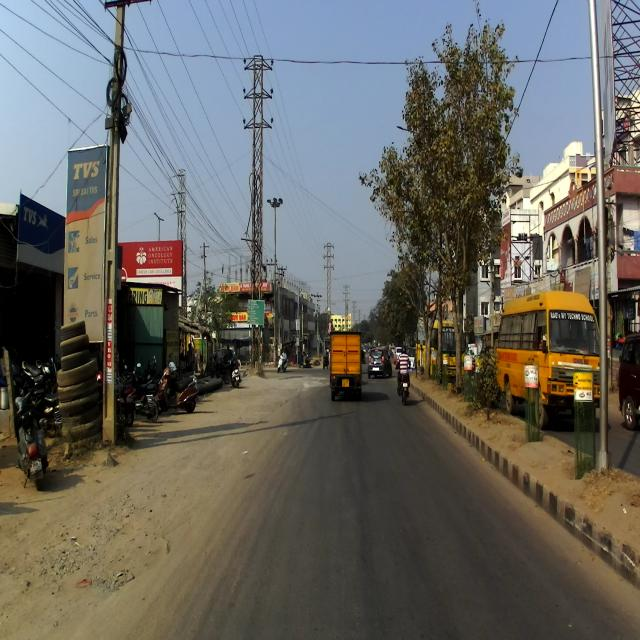auto ahead at: (326, 328, 365, 402)
electric pole ahead at: (89, 0, 141, 450)
motorcycle ahead at: (9, 380, 51, 490)
